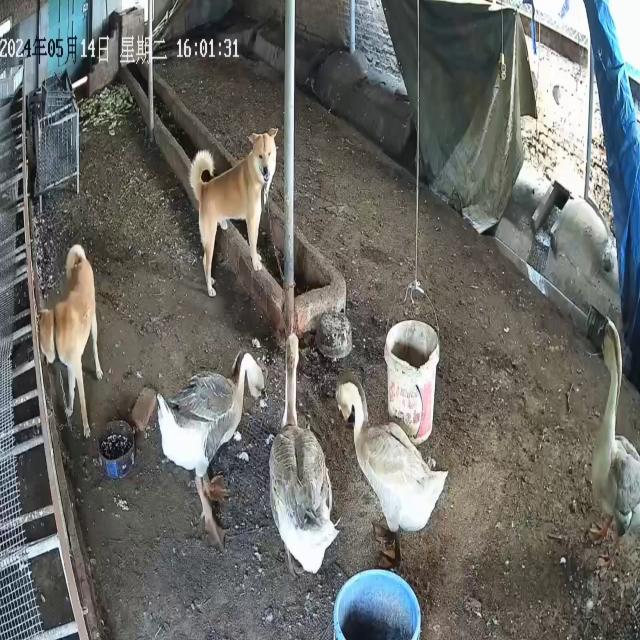dog: (189, 127, 280, 299), (39, 244, 104, 440)
